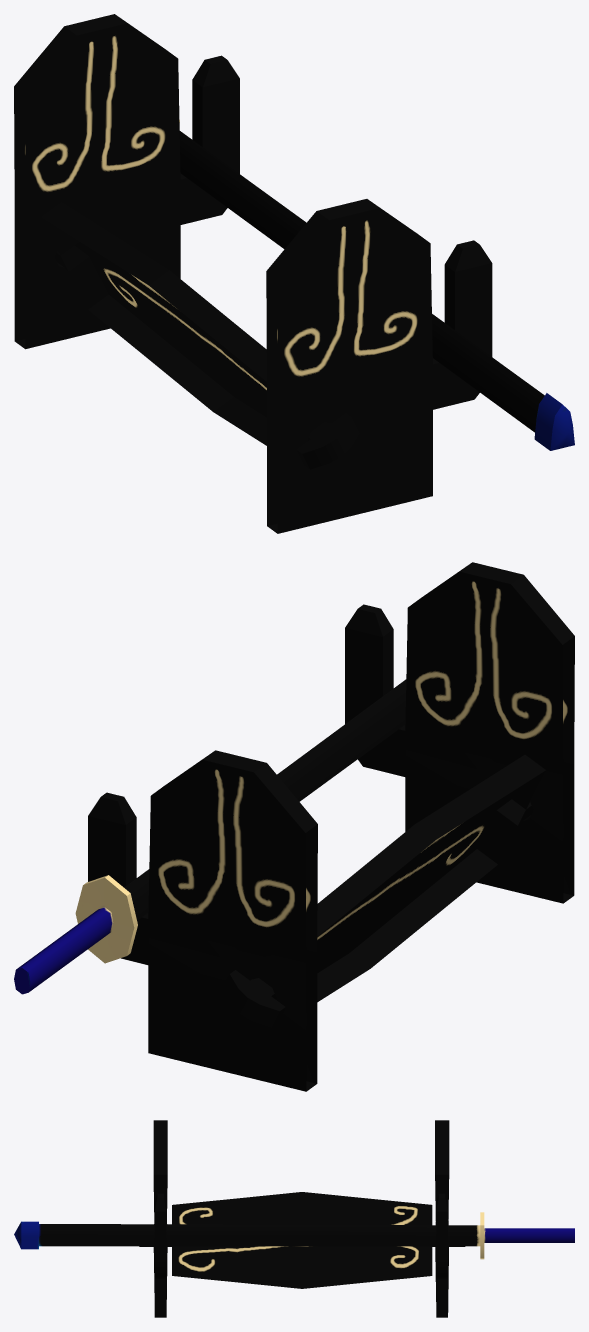
The model's file is Wall Mount and Katana.fbx.
3 renders of one model, top to bottom at view 1: azimuth 30°, elevation 25°; view 2: azimuth 150°, elevation 25°; view 3: azimuth 270°, elevation 25°, orthographic. The views are drawn at different scales.
Visible parts, largest first — view 1: Board, Ninjato_Sheathed; view 2: Board, Ninjato_Sheathed; view 3: Board, Ninjato_Sheathed.
Part boxes in pixels (x1,y1,x2,y2): Board: (14,14,492,533); Ninjato_Sheathed: (179,119,574,450); Board: (88,562,574,1091); Ninjato_Sheathed: (14,679,406,994); Board: (139,1120,465,1317); Ninjato_Sheathed: (14,1212,574,1259).
Size of the model in its own units: 18.53 by 24.93 by 75.21.
